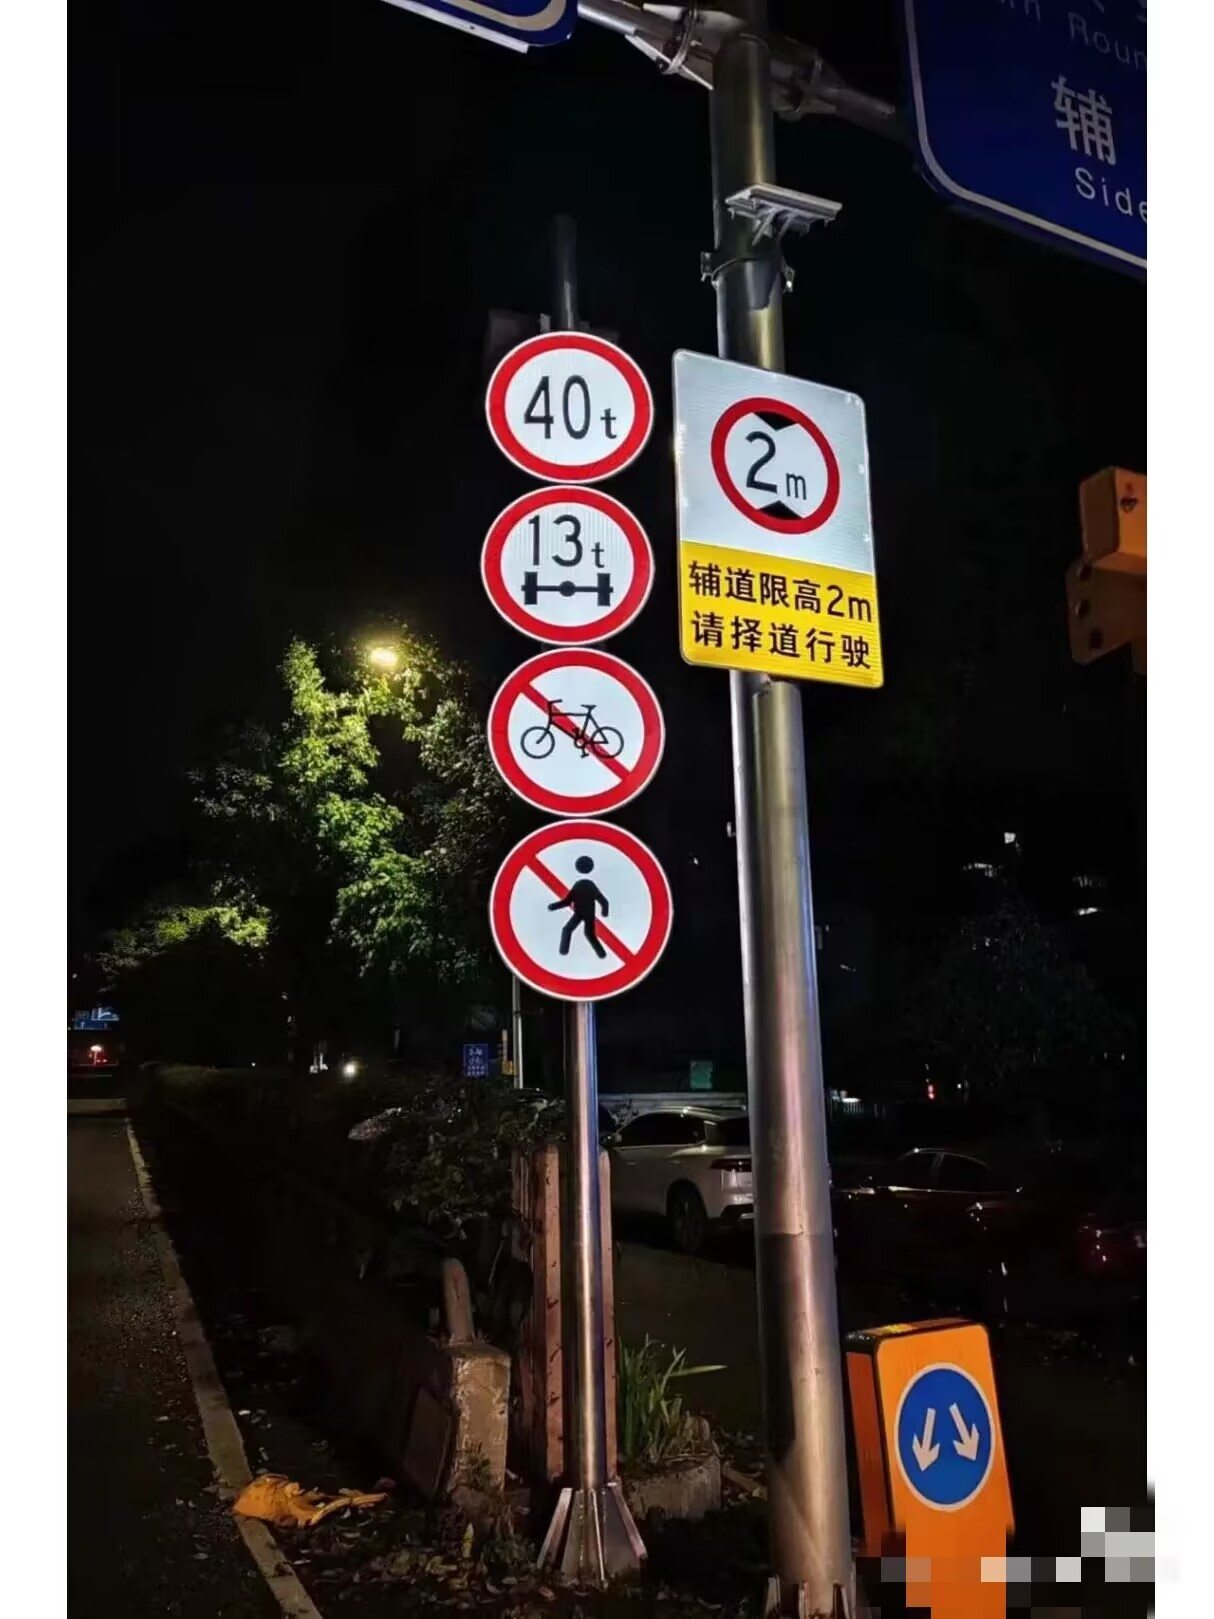p6: (488, 648, 666, 820)
